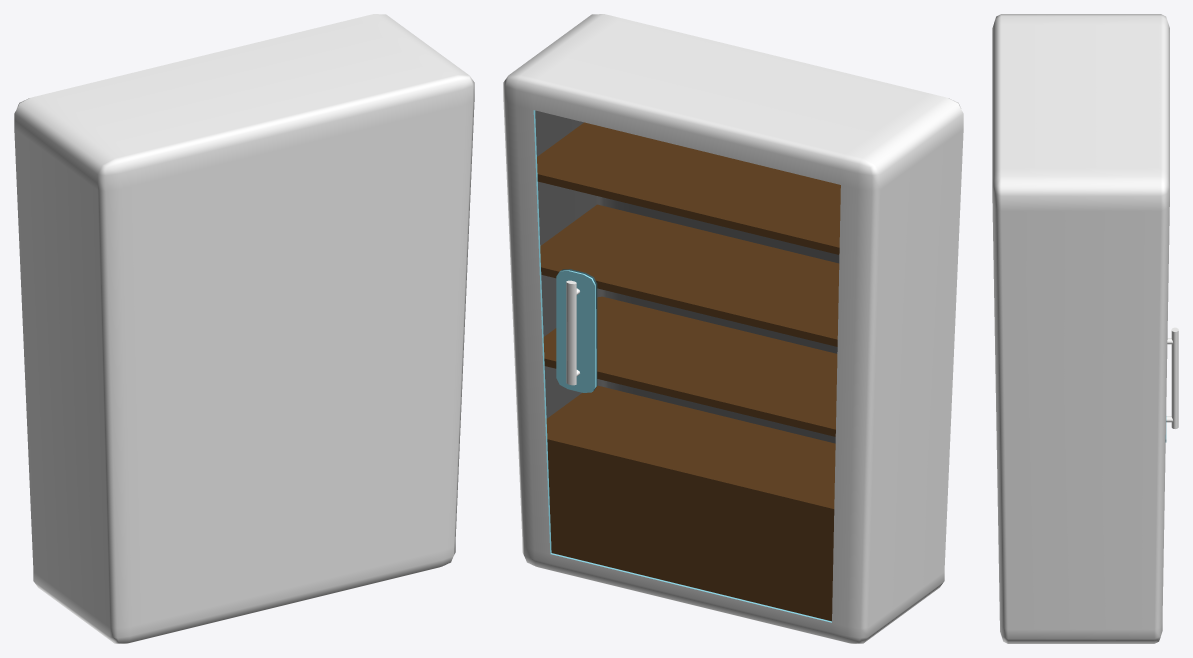
The model's file is Resto_Mesh_frigo.fbx.
3 views of the same model, side by side, from view 1: azimuth 30°, elevation 25°; view 2: azimuth 150°, elevation 25°; view 3: azimuth 270°, elevation 25° (orthographic). The views are drawn at different scales.
Parts seen in each view (by area): view 1: frigo; view 2: frigo; view 3: frigo.
Boxes of the visible parts, x1,y1,x2,y2 form: frigo: [14, 14, 474, 643]; frigo: [503, 14, 963, 643]; frigo: [992, 14, 1178, 643].
Bounding box in the file's own units: 94.93 × 118 × 42.26.
